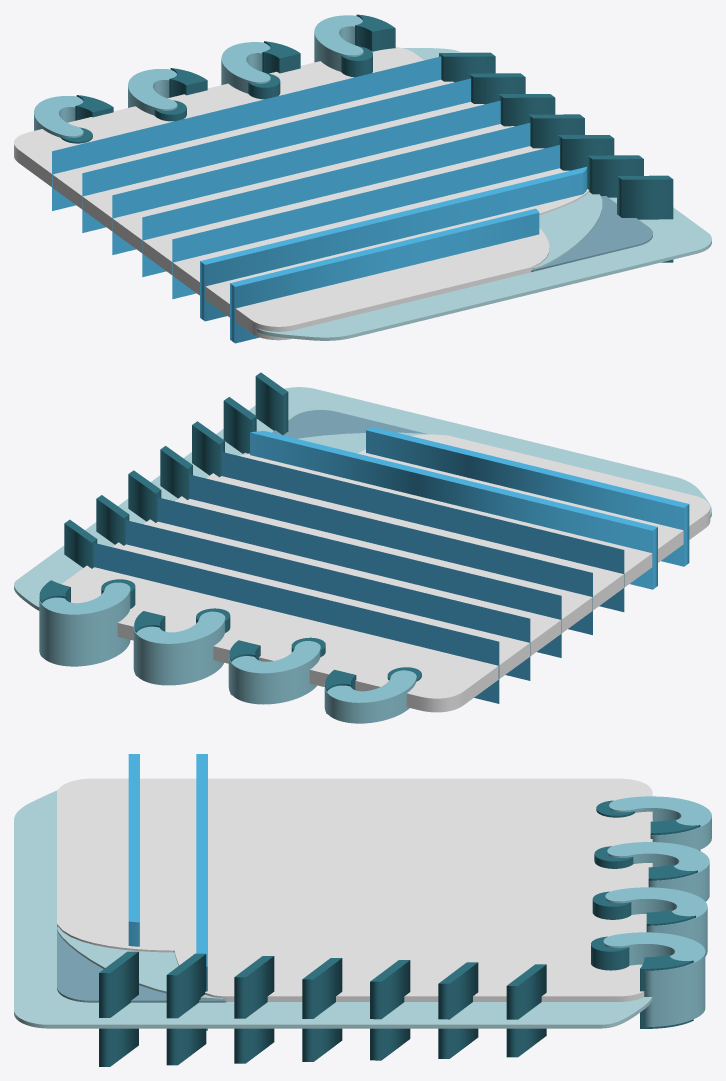
The model's file is emoji_u1f5d2.glb.
3 views of the same model, one above another, from view 1: azimuth 30°, elevation 25°; view 2: azimuth 150°, elevation 25°; view 3: azimuth 270°, elevation 25° (orthographic). The views are drawn at different scales.
Parts seen in each view (by area): view 1: emoji_u1f5d2; view 2: emoji_u1f5d2; view 3: emoji_u1f5d2.
Boxes of the visible parts, x1,y1,x2,y2 form: emoji_u1f5d2: (14,14,711,343); emoji_u1f5d2: (14,372,711,723); emoji_u1f5d2: (14,754,711,1066).
Size of the model in its own units: 0.0275 by 0.005 by 0.0337.
